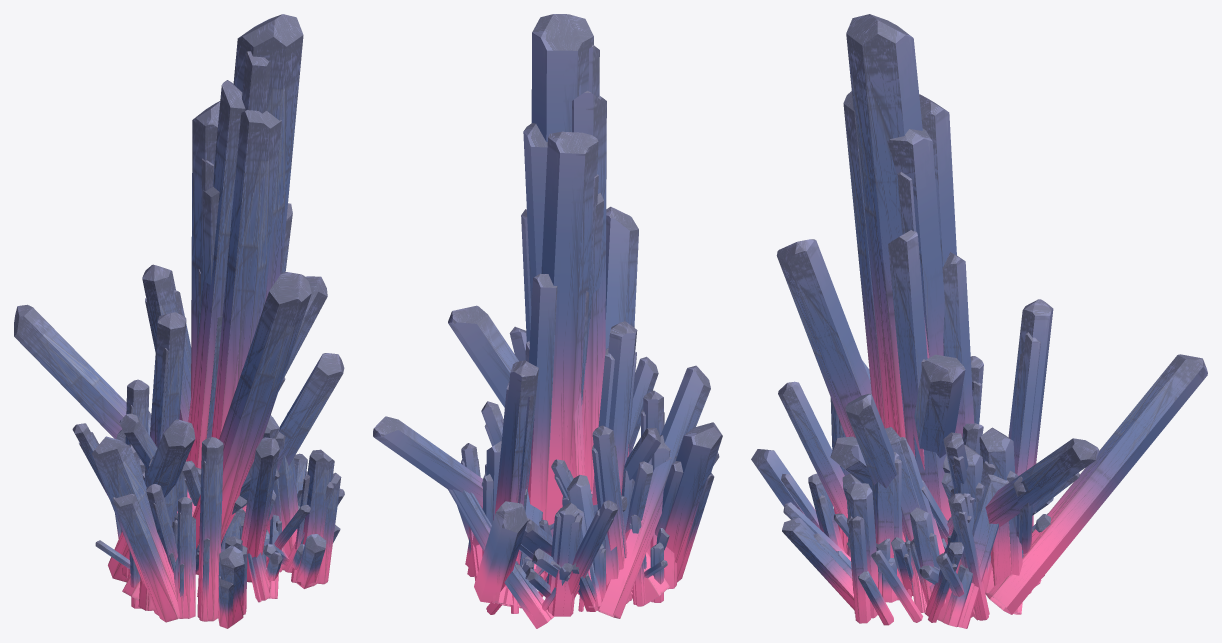
3 renders of one model, left to right at view 1: azimuth 30°, elevation 25°; view 2: azimuth 150°, elevation 25°; view 3: azimuth 270°, elevation 25°, orthographic. The views are drawn at different scales.
Parts seen in each view (by area): view 1: Crystal__0; view 2: Crystal__0; view 3: Crystal__0.
Part boxes in pixels (box(x1,y1,x2,y2)): Crystal__0: box(14, 14, 344, 628); Crystal__0: box(373, 14, 722, 628); Crystal__0: box(751, 14, 1207, 628).
Bounding box in the file's own units: 638 × 1314 × 911.
1 material, 1 textured.
